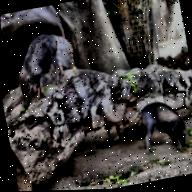boar: (136, 96, 189, 159)
